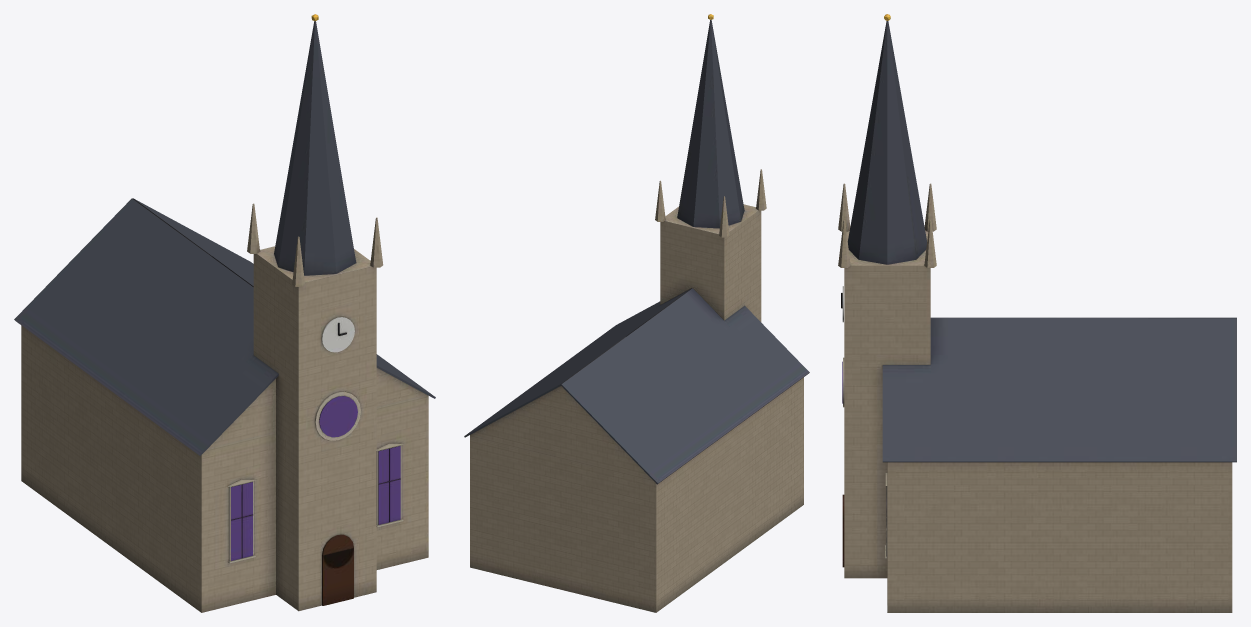
Rendered from iglesia_presbiteriana.glb.
3 views of the same model, side by side, from view 1: azimuth 30°, elevation 25°; view 2: azimuth 150°, elevation 25°; view 3: azimuth 270°, elevation 25° (orthographic). The views are drawn at different scales.
Visible parts, largest first — view 1: iglesia_presbiteriana; view 2: iglesia_presbiteriana; view 3: iglesia_presbiteriana.
Boxes of the visible parts, left/top/right/bottom form: iglesia_presbiteriana: left=14, top=14, right=435, bottom=612; iglesia_presbiteriana: left=464, top=14, right=809, bottom=612; iglesia_presbiteriana: left=838, top=14, right=1236, bottom=612.
Size of the model in its own units: 16.67 by 38.45 by 25.45.
Materials: 1 (1 with a texture image).
